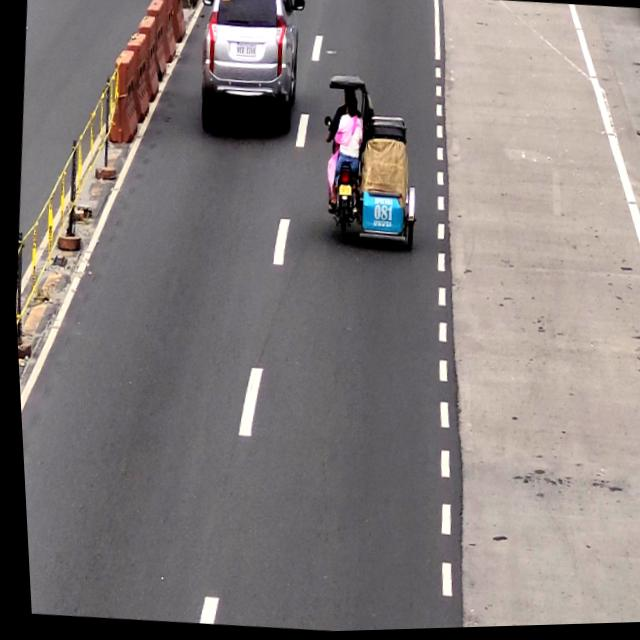Car: (190, 0, 307, 142)
License-Plate: (233, 44, 257, 61), (336, 185, 351, 200)
Tricycle: (313, 77, 426, 253)
